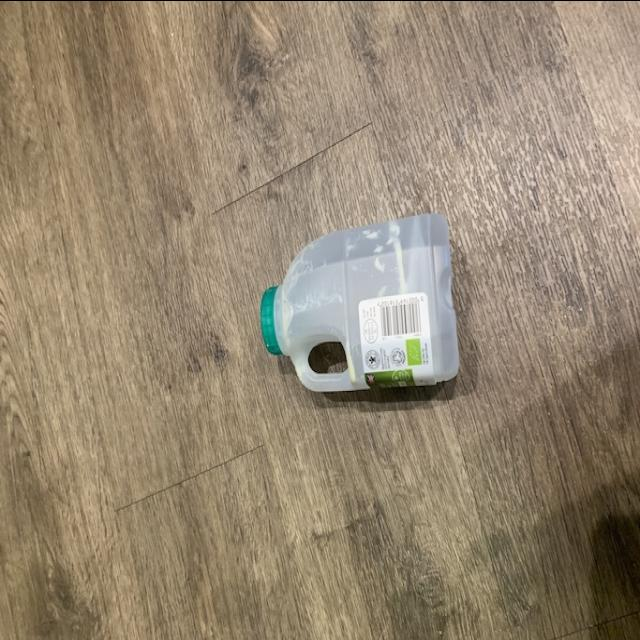litter: (263, 207, 459, 395)
